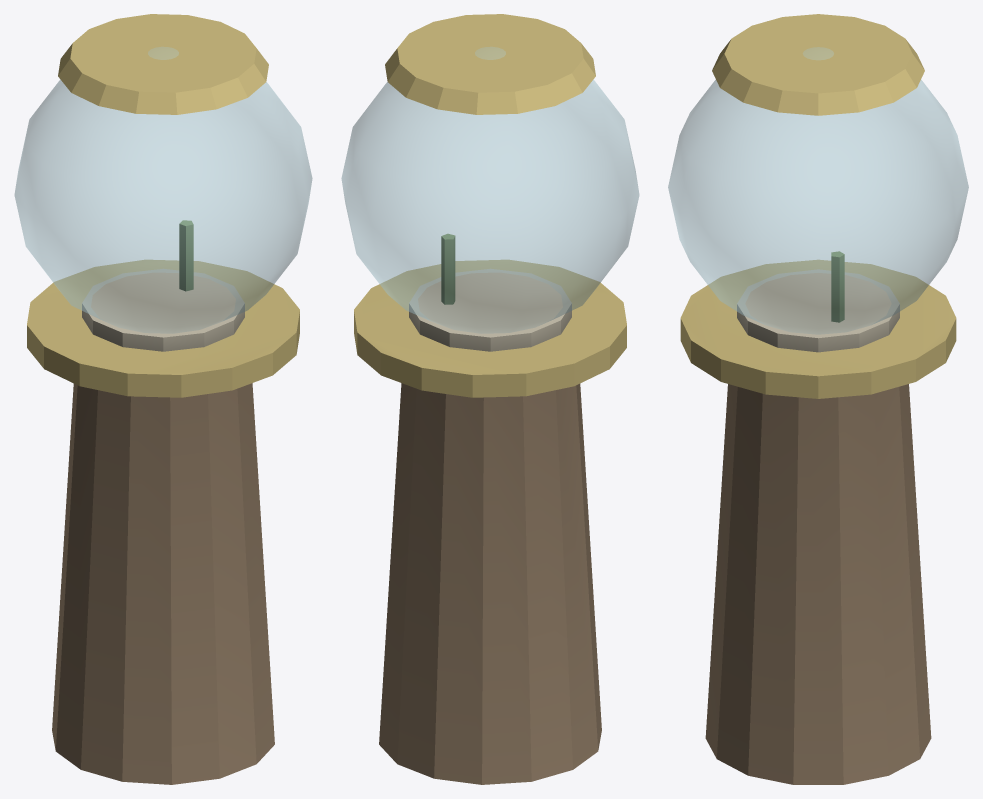
Rendered from furn_fish_bowl__walnut.glb.
The picture shows the model from 3 angles, left to right: view 1: azimuth 30°, elevation 25°; view 2: azimuth 150°, elevation 25°; view 3: azimuth 270°, elevation 25°; orthographic projection.
Size of the model in its own units: 0.48 by 1.21 by 0.48.
